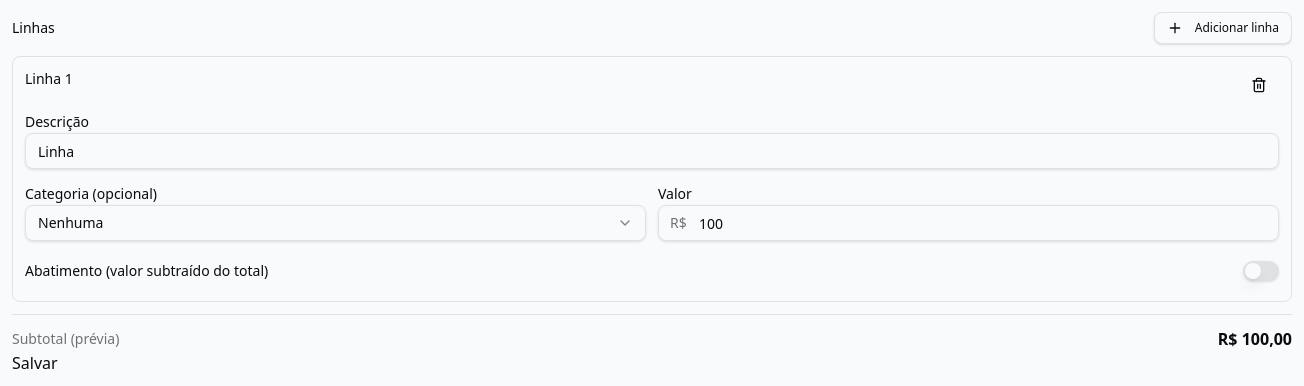
Scenario: BillLineItemsField › shows the Portuguese empty state when all lines are removed
The image size is (1304, 386).
Click the button named "remover linha 1" at (1259, 85), box [1239,69,1279,101]
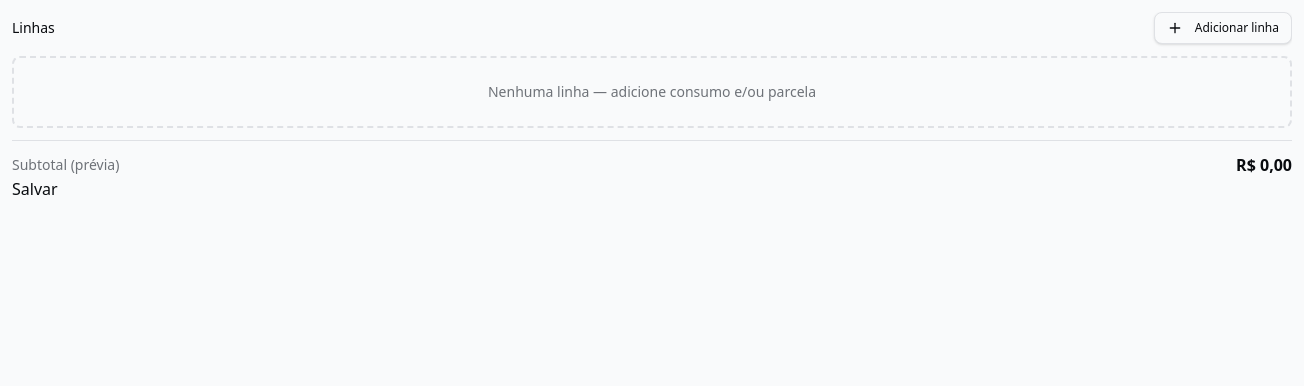
Result: the text "Nenhuma linha — adicione consumo e/ou parcela" is shown at [12,56,1292,128]
